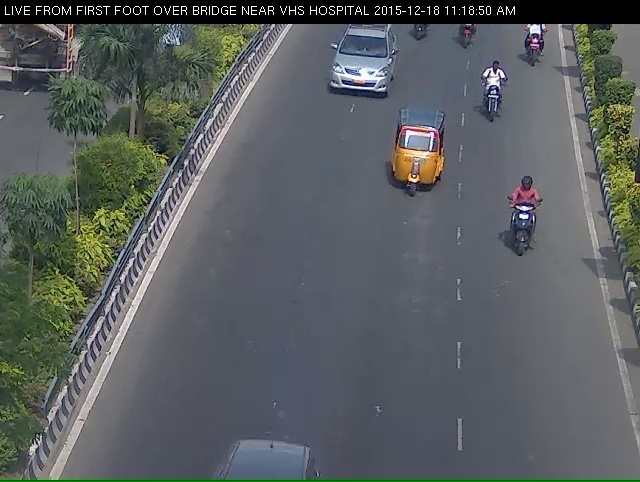Car: (386, 111, 448, 203), (320, 23, 391, 103)
Person: (511, 185, 543, 271), (478, 60, 511, 124), (519, 21, 549, 65)
